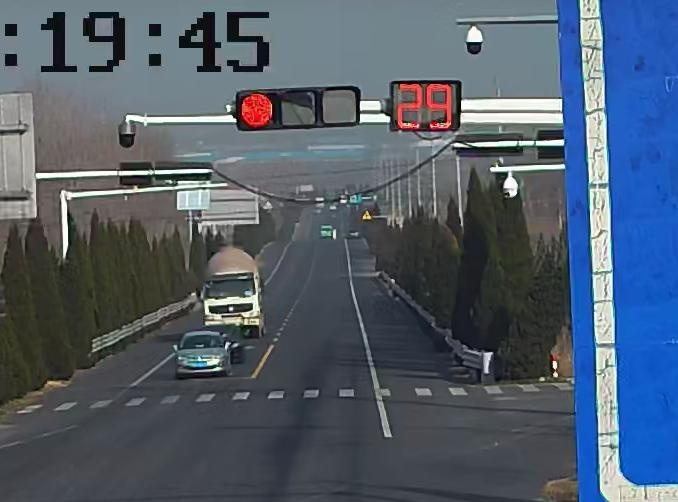red: (239, 91, 277, 130)
redtime: (395, 79, 459, 133)
